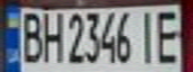2: (63, 9, 84, 64)
3: (81, 8, 103, 64)
4: (100, 8, 118, 63)
6: (115, 8, 136, 64)
B: (15, 8, 45, 63)
E: (151, 6, 187, 66)
H: (39, 8, 66, 64)
I: (133, 7, 160, 64)
